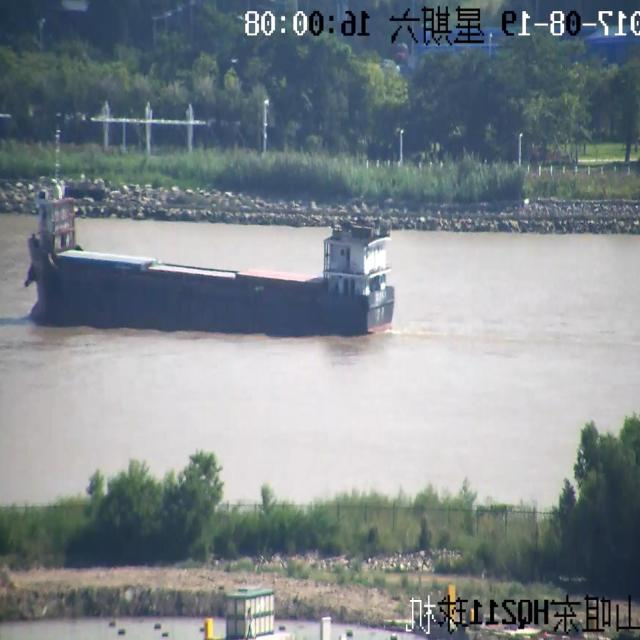houseboat: (13, 148, 407, 333)
